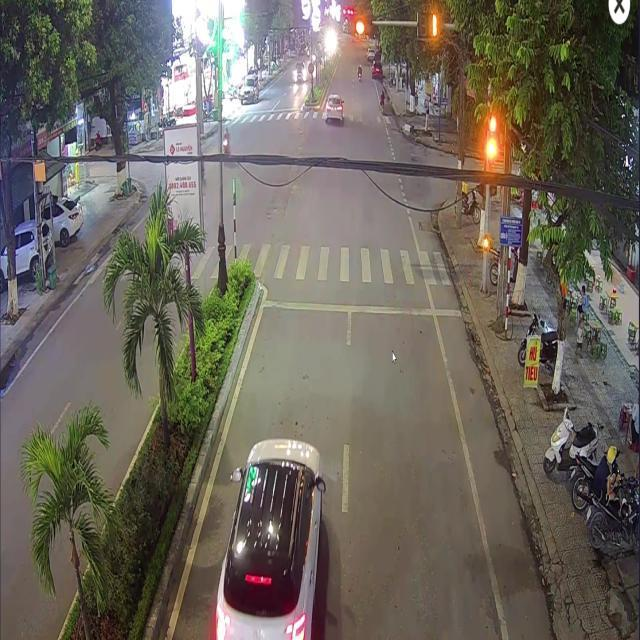car: (213, 438, 325, 639)
stop_line: (263, 298, 460, 316)
yellow_light: (484, 106, 500, 177), (345, 15, 374, 38)
